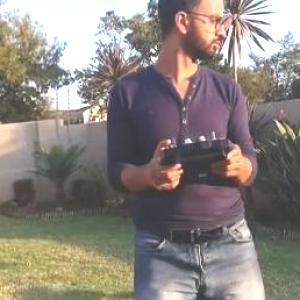follow: (109, 0, 276, 299)
